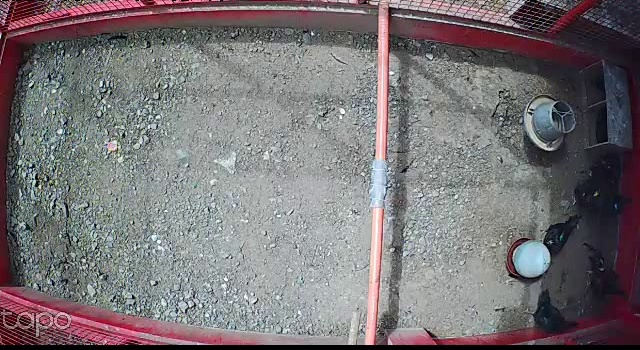Chicken: (519, 287, 582, 338), (540, 215, 583, 257)
Drinker: (505, 236, 553, 280)
Feeder: (521, 92, 579, 153)
Rooster: (573, 236, 634, 309)
